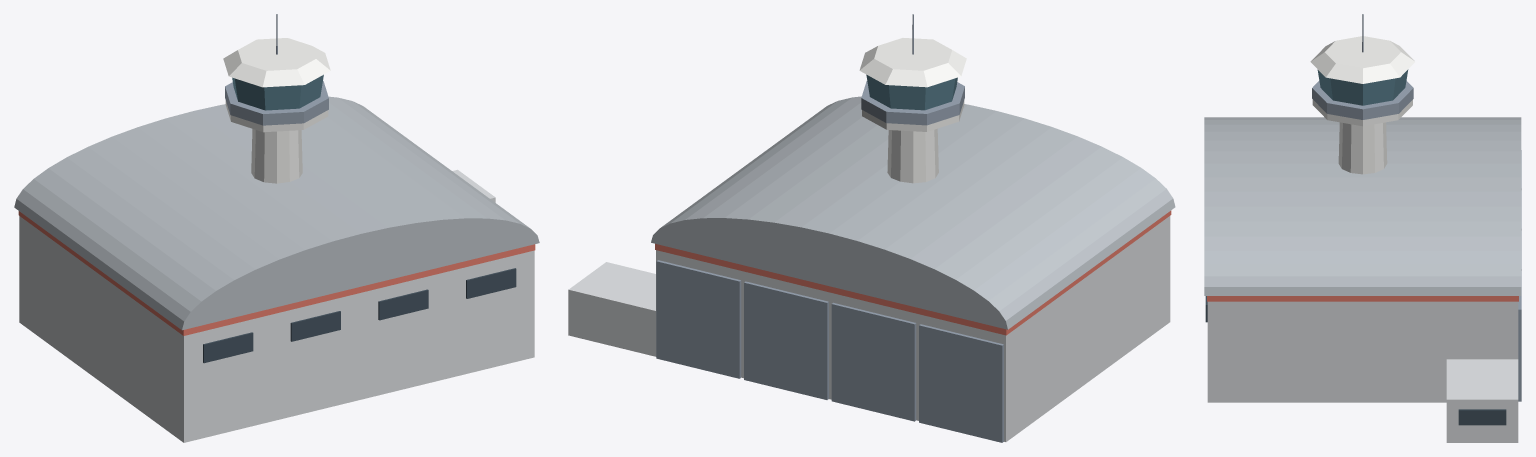
File: buildings.glb
The picture shows the model from 3 angles, left to right: view 1: azimuth 30°, elevation 25°; view 2: azimuth 150°, elevation 25°; view 3: azimuth 270°, elevation 25°; orthographic projection. The views are drawn at different scales.
Visible parts, largest first — view 1: hangar, tower; view 2: hangar, tower; view 3: hangar, tower.
Part boxes in pixels (<box>): hangar: <box>14,96,539,442</box>; tower: <box>223,14,330,183</box>; hangar: <box>568,96,1175,442</box>; tower: <box>859,14,966,183</box>; hangar: <box>1204,117,1521,442</box>; tower: <box>1310,14,1414,174</box>.
Bounding box in the file's own units: 40.47 × 28.4 × 26.53.
